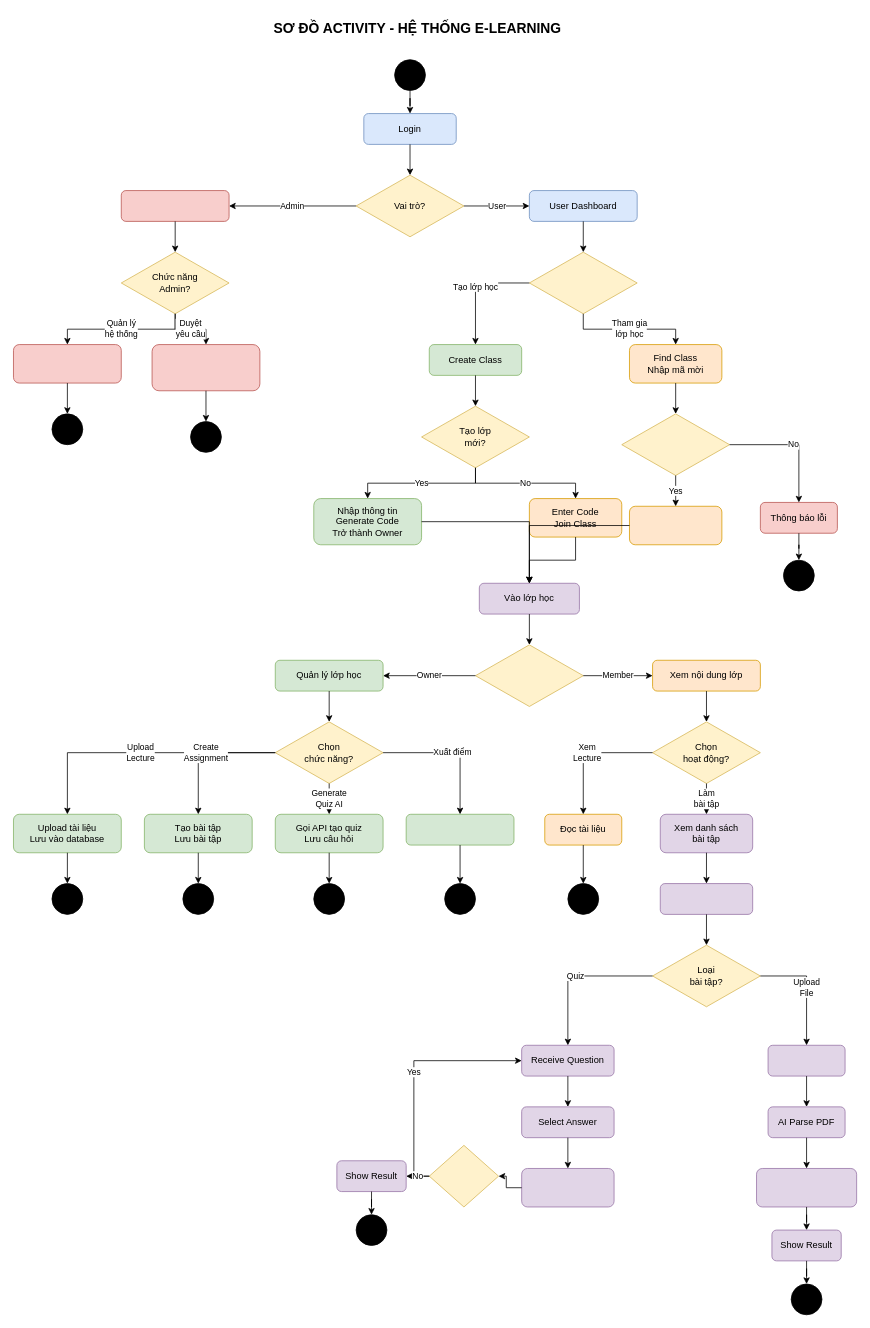
This 870x1328 diagram has some shape labels left out. The shapes that lost their labels are listed below. From the top down, each one's box as (x1, y1, x2, y2) in pixels, then its label:
(121, 190, 229, 221): Admin Dashboard
(529, 251, 637, 314): Chọn chế độ?
(13, 344, 121, 383): Xem thống kê Quản lý người dùng
(151, 344, 260, 391): Xem yêu cầu tham gia Duyệt/Từ chối
(621, 413, 730, 475): Mã hợp lệ?
(629, 506, 722, 545): Tham gia thành công
(475, 644, 583, 706): Vai trò trong lớp?
(405, 814, 514, 845): Export Grades
(660, 883, 753, 914): Chọn bài tập
(767, 1045, 845, 1076): Upload PDF
(429, 1145, 499, 1207): More Questions?
(521, 1168, 614, 1207): Submit Answer Update Score
(756, 1168, 857, 1207): So sánh đáp án Chấm điểm tự động
